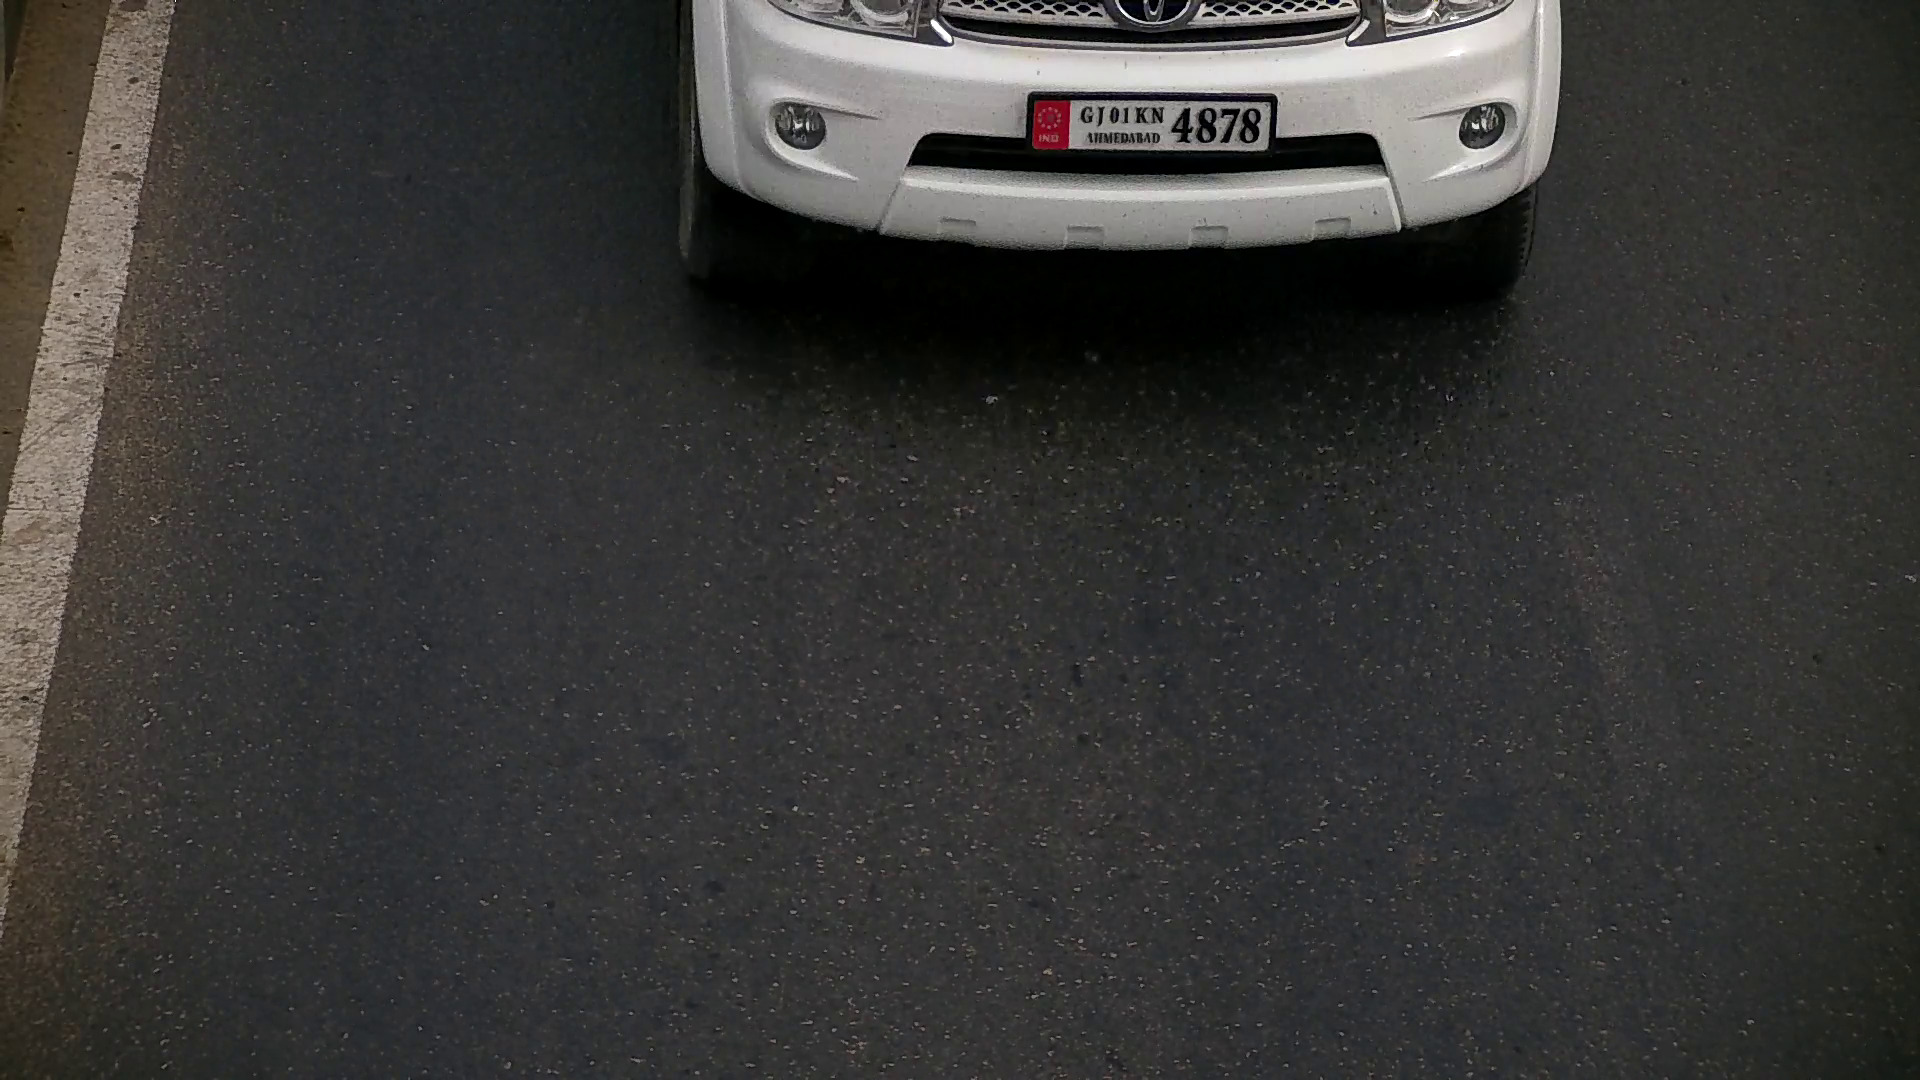numberplate: (1022, 88, 1278, 167)
